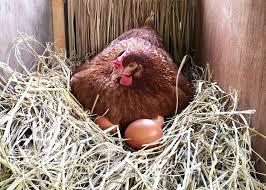egg: (121, 113, 164, 152)
